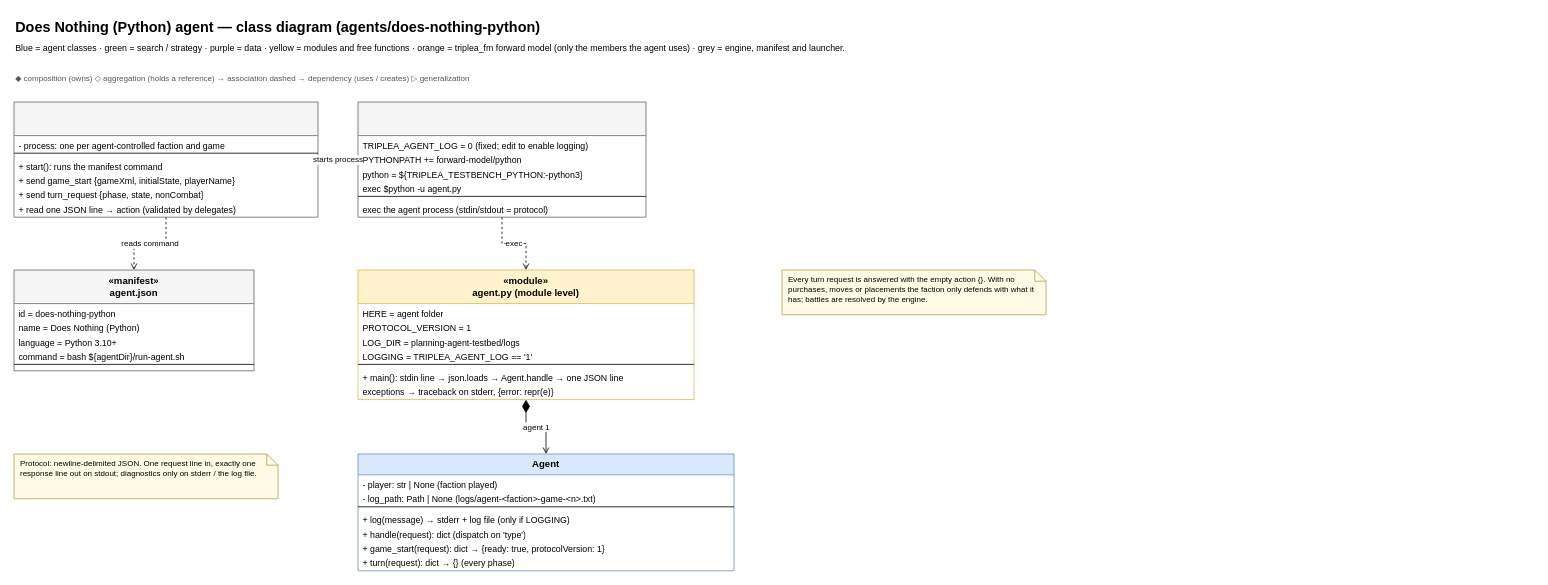
Image size: 1548x585. Some labels were removed from this diagram. Each missing label, with the box of its shape:
«engine» ExternalAgentPlayer (TripleA engine, Java): (13, 101, 318, 217)
«launcher» run-agent.sh: (357, 101, 646, 217)
